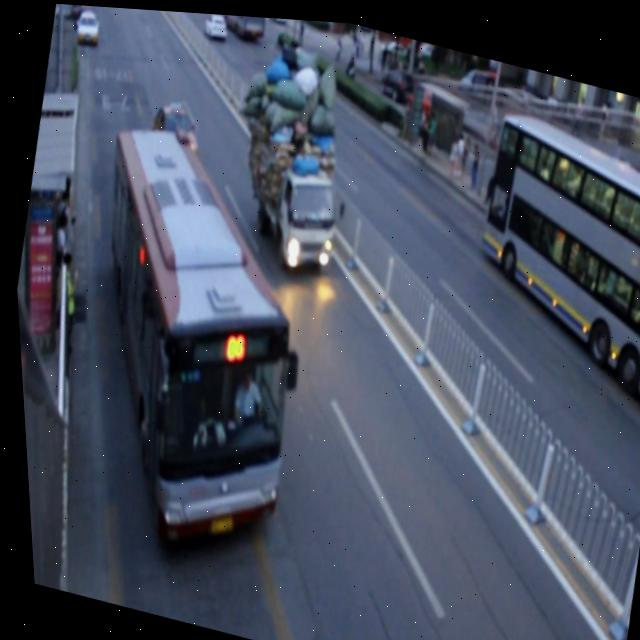bus: (230, 41, 363, 273)
car: (145, 95, 206, 163)
van: (42, 119, 333, 562), (449, 102, 640, 411)
